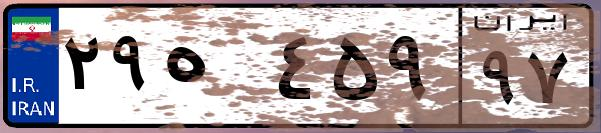2: (57, 26, 110, 100)
4: (270, 28, 330, 110)
5: (330, 28, 385, 110)
7: (525, 38, 570, 115)
9: (385, 28, 445, 110), (475, 38, 525, 113), (110, 28, 158, 98)
ه: (158, 20, 270, 120)
